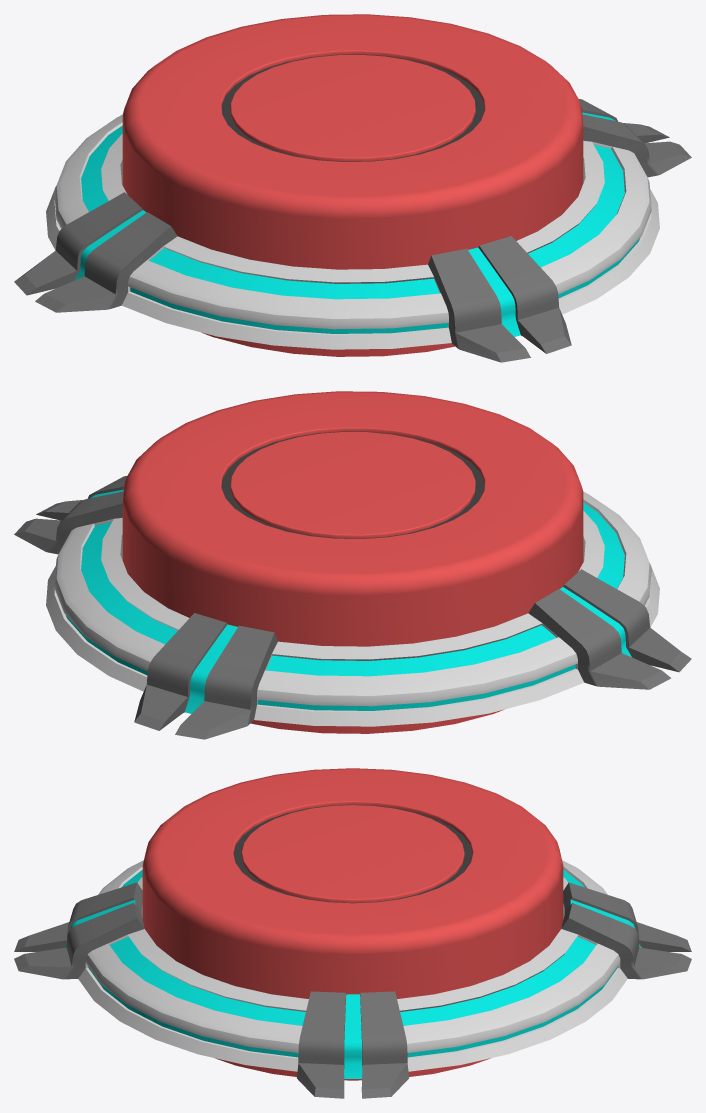
The model's file is Switch.fbx.
3 views of the same model, one above another, from view 1: azimuth 30°, elevation 25°; view 2: azimuth 150°, elevation 25°; view 3: azimuth 270°, elevation 25° (orthographic). The views are drawn at different scales.
Parts seen in each view (by area): view 1: pCylinder60, pPipe3; view 2: pCylinder60, pPipe3; view 3: pCylinder60, pPipe3.
Boxes of the visible parts, left/top/right/bottom form: pCylinder60: left=122, top=14, right=583, bottom=356; pPipe3: left=14, top=98, right=691, bottom=362; pCylinder60: left=122, top=391, right=583, bottom=733; pPipe3: left=14, top=475, right=691, bottom=739; pCylinder60: left=142, top=768, right=563, bottom=1080; pPipe3: left=14, top=860, right=691, bottom=1098.
Size of the model in its own units: 3.71 by 0.8439 by 3.71.
